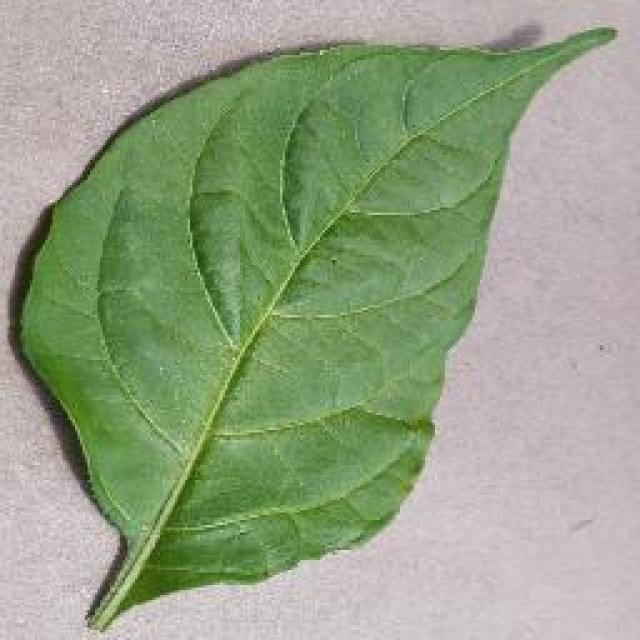Leaf: (59, 21, 594, 559)
